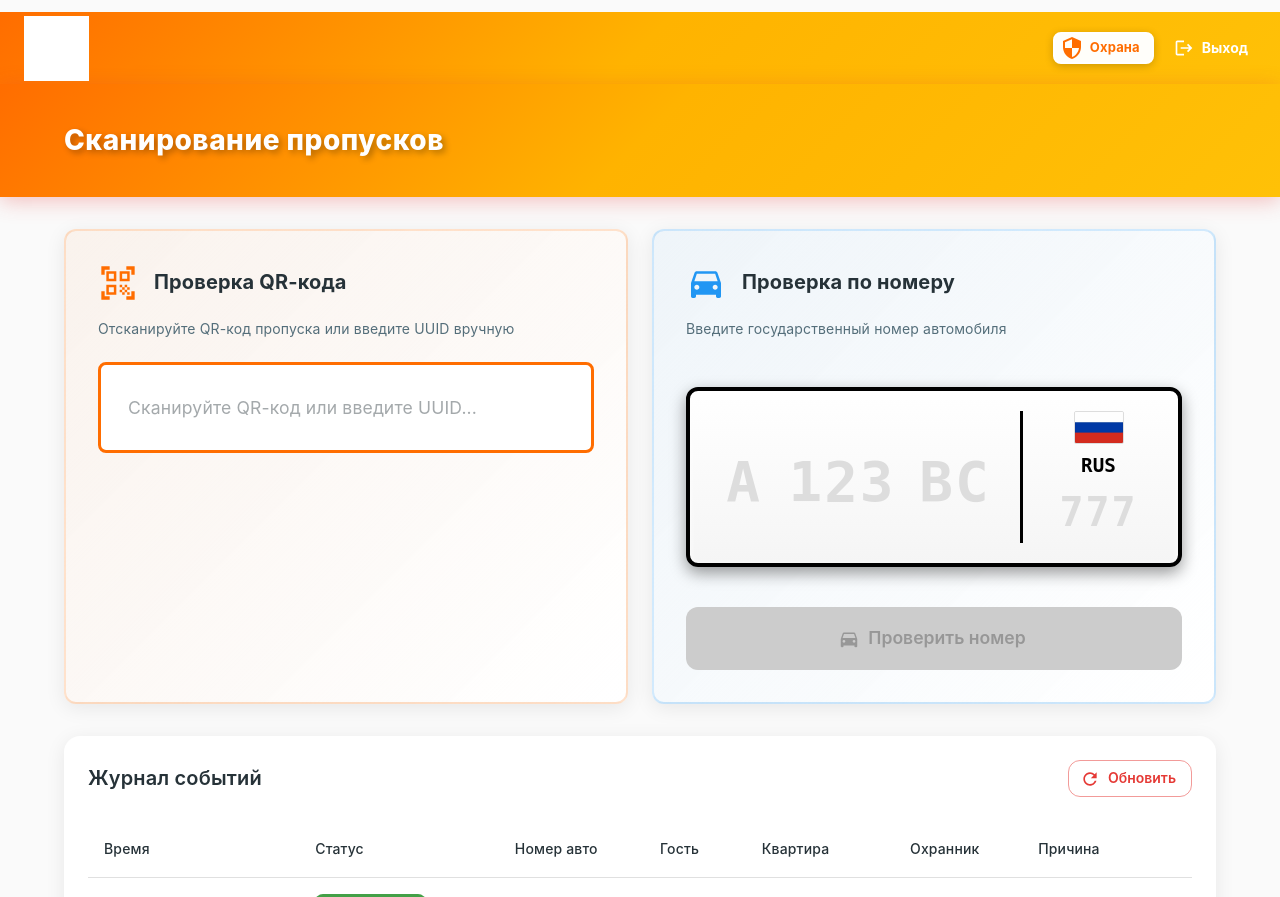
SecurityPage › clears error on close button
Step 1. Type "unknown-uuid" into the field with placeholder "Сканируйте QR-код или введите UUID..." → point(346, 408), box top-left (114, 379), bottom-right (578, 437)
Then press Enter
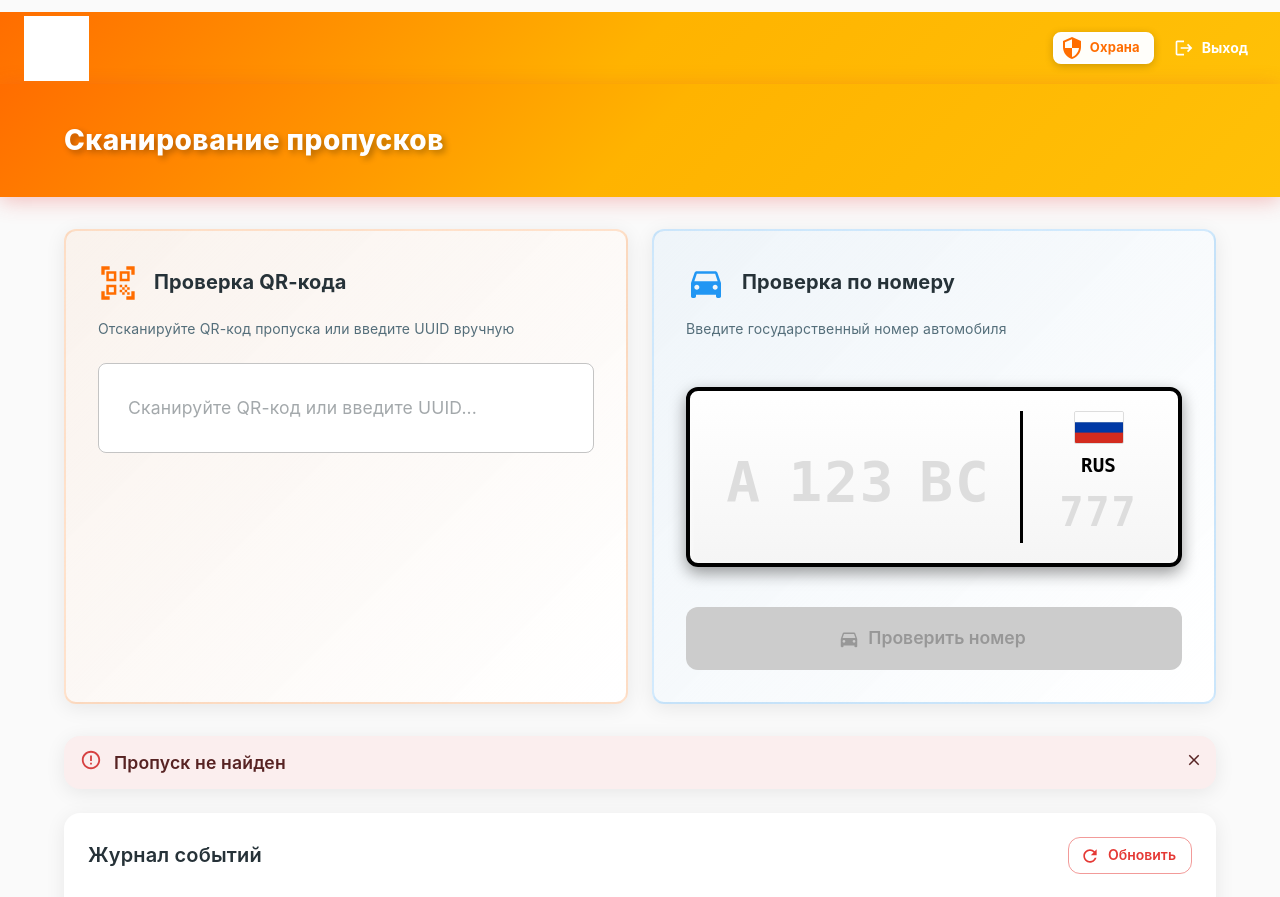
Check: the message "Пропуск не найден" is shown, box top-left (64, 736), bottom-right (1216, 790)
Step 2. Click the button named "close" → point(1194, 760), box top-left (1180, 746), bottom-right (1208, 774)
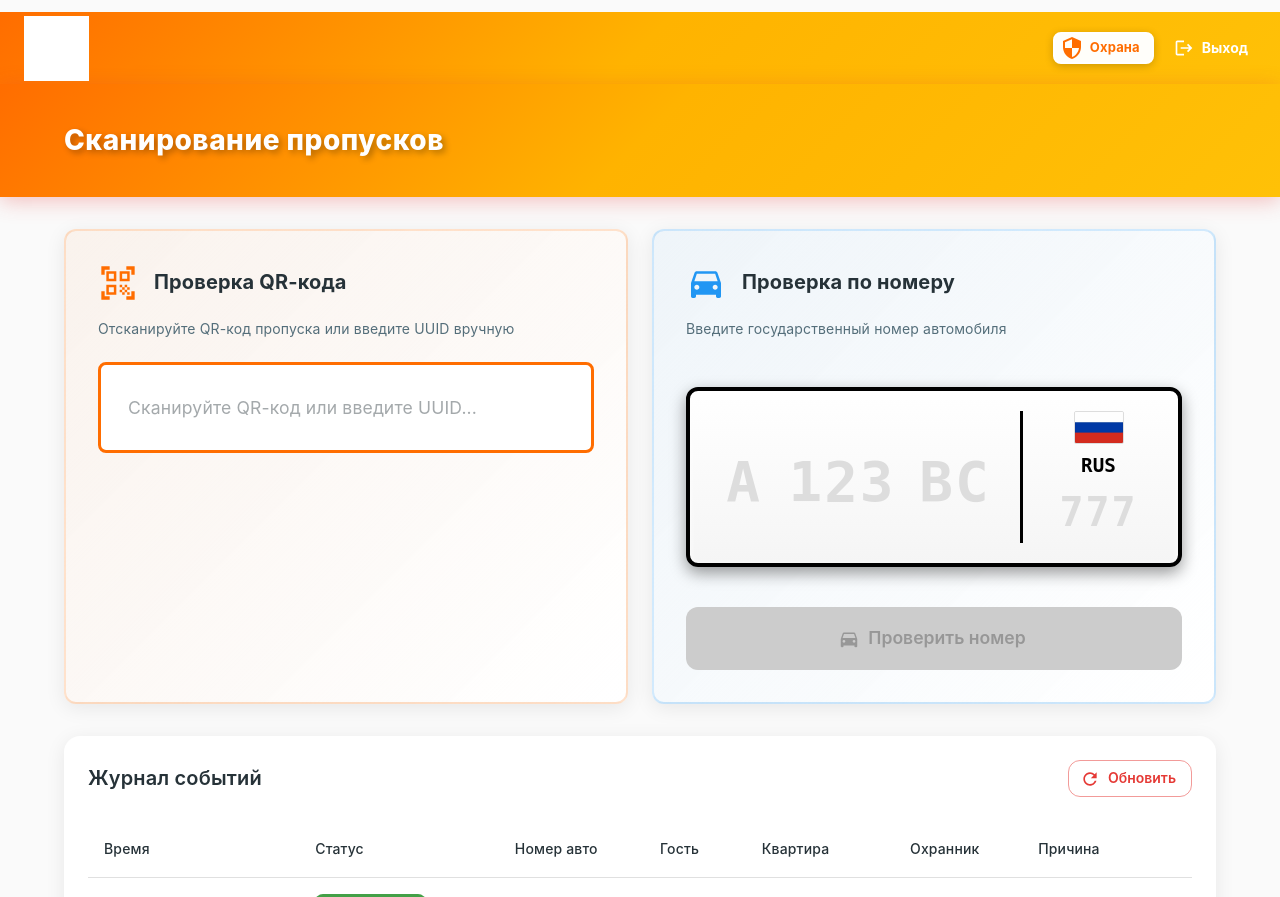
Check: the message "Пропуск не найден" is gone
